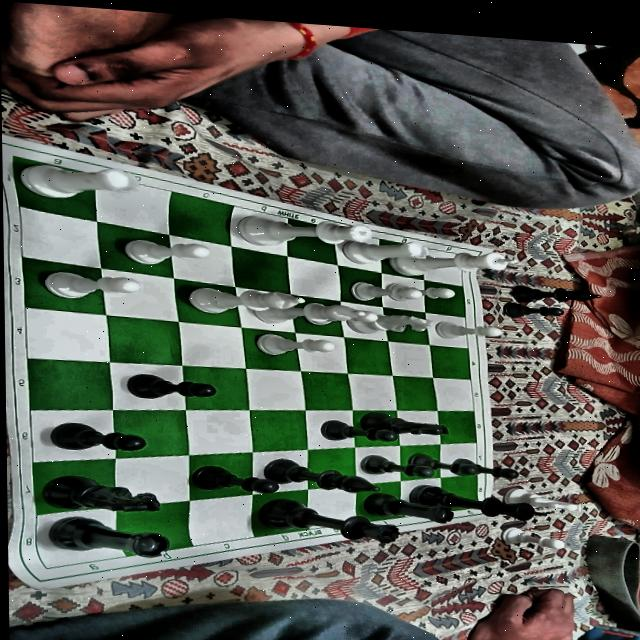BlackBishop: (265, 457, 382, 496), (512, 282, 602, 310)
BlackKing: (405, 482, 554, 524)
BlackKnight: (43, 472, 165, 518), (355, 408, 454, 442)
BlackPawn: (125, 370, 219, 409), (53, 420, 149, 458), (188, 462, 280, 497), (358, 453, 437, 482), (319, 418, 399, 446), (450, 454, 523, 482), (408, 450, 479, 478), (501, 299, 567, 322)
BlackQueen: (257, 497, 401, 543)
BlackRook: (49, 515, 173, 562), (362, 490, 456, 523)
WhiteBishop: (188, 284, 306, 318), (255, 297, 365, 329)
WhiteKing: (386, 244, 523, 284)
WhiteKnight: (349, 310, 430, 337), (504, 486, 578, 513)
WhitePawn: (43, 269, 144, 304), (123, 236, 212, 269), (257, 331, 339, 360), (434, 319, 508, 344), (351, 280, 424, 303), (502, 526, 568, 551), (386, 281, 456, 302)
WhiteQueen: (237, 214, 374, 252)
WhiteRook: (17, 160, 144, 207), (341, 237, 429, 269)
